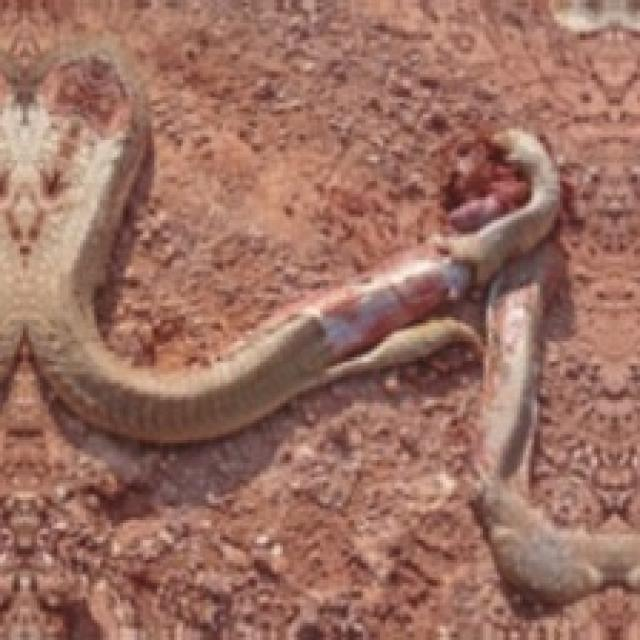king cobra: (0, 37, 557, 440), (0, 349, 637, 637), (446, 129, 637, 603), (517, 31, 637, 529)
